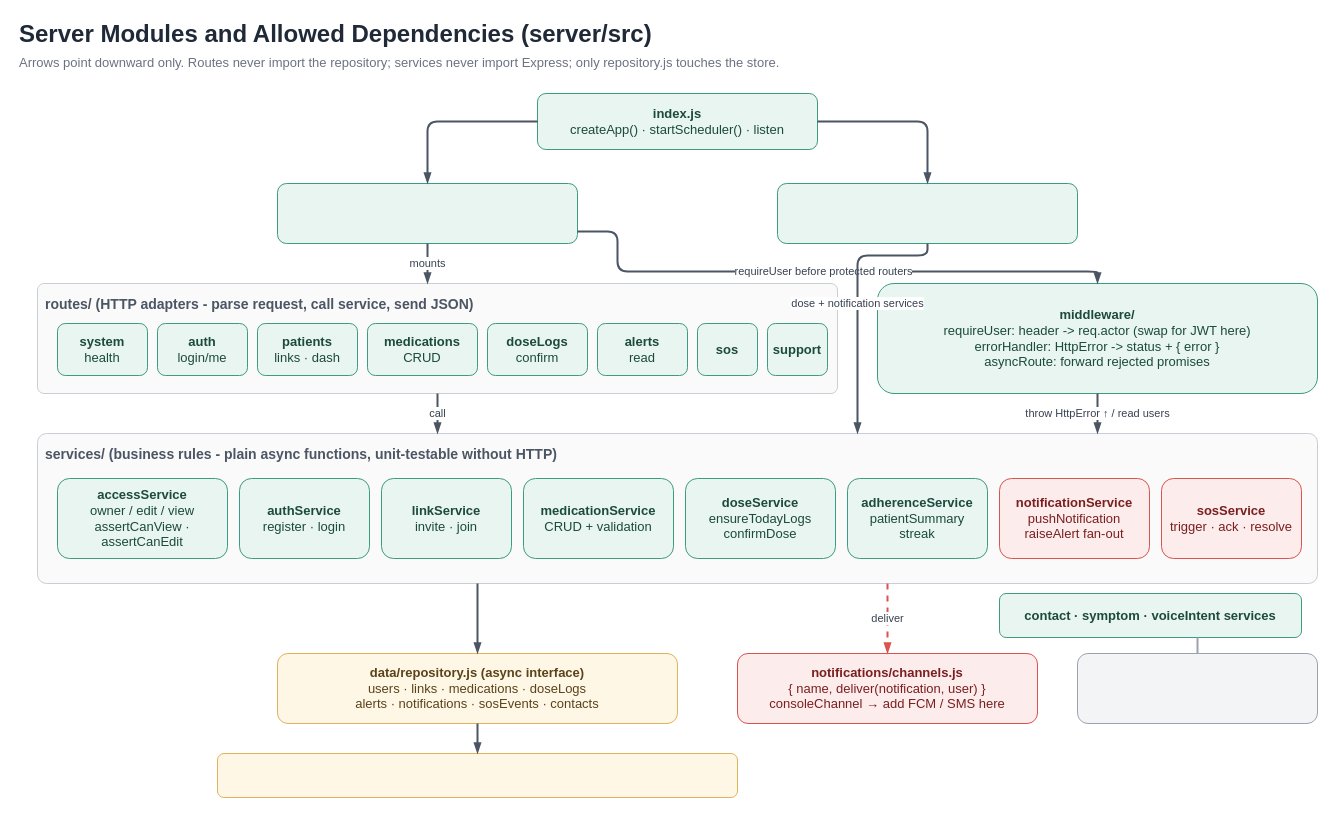
Some shapes in this 1335 by 815 pixel diagram are drawn without their labels. The shapes that lost their labels are listed below. From the top down, each one's centre as x and y in pixels, then its label:
point 427,213: app.js cors · json · public + protected routers 404 · errorHandler
point 927,213: scheduler/reminderScheduler.js cron * * * * * · schedulerTick(now)
point 1197,688: config.js · lib/ time · password · httpError used by every layer
point 477,775: data/memoryStore.js (private to repository) ⇄ future PostgreSQL implementation
